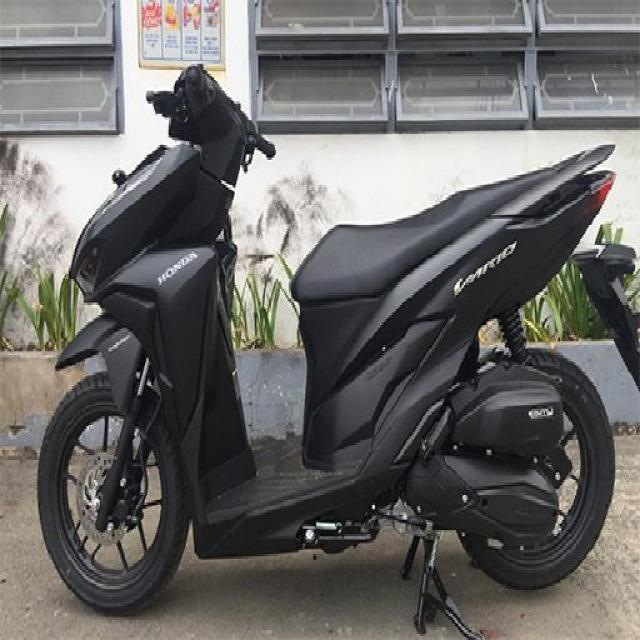All: (27, 65, 640, 620)
Head: (150, 73, 272, 165)
Tail: (545, 135, 627, 215)
